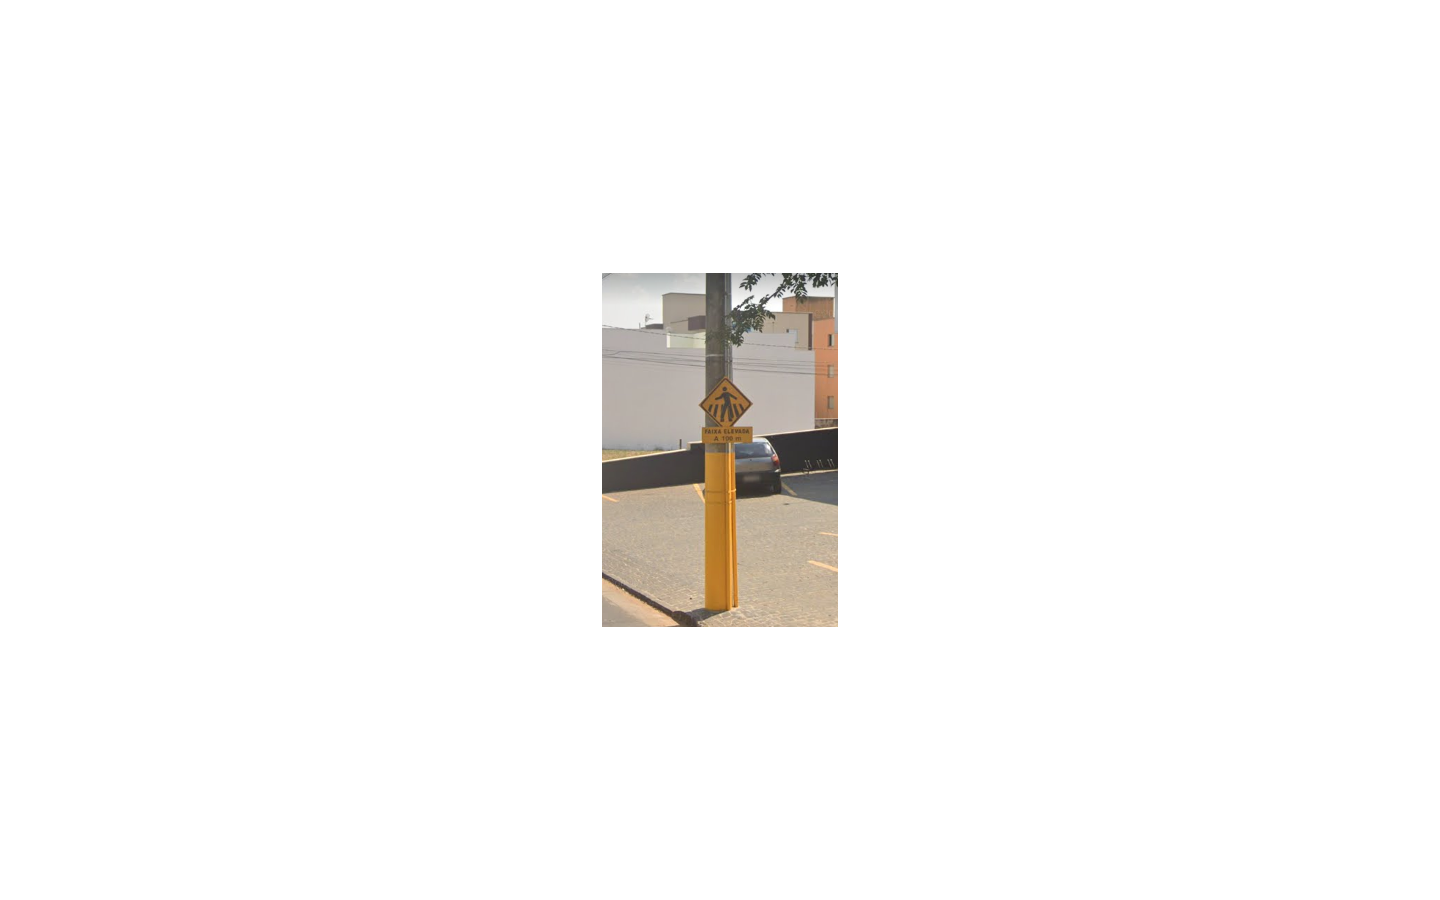t100m: (699, 378, 753, 443)
